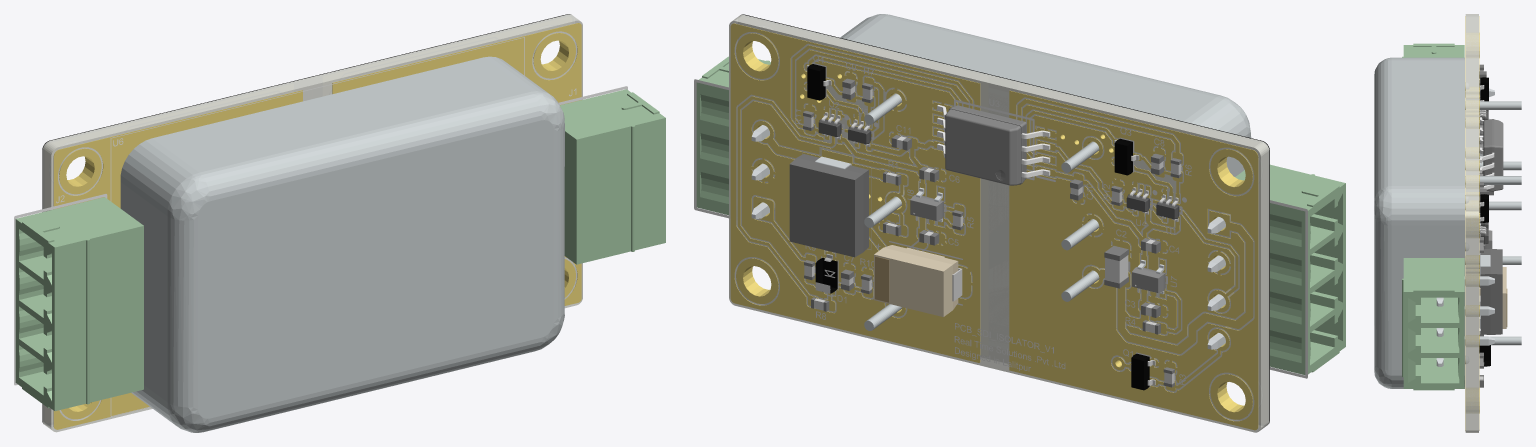
File: SDI_ISOLATOR_V1.glb
3 renders of one model, left to right at view 1: azimuth 30°, elevation 25°; view 2: azimuth 150°, elevation 25°; view 3: azimuth 270°, elevation 25°, orthographic. The views are drawn at different scales.
Parts seen in each view (by area): view 1: ComponentBody.2, ComponentBody.4, ComponentBody.1, Core, GND_L, GND_R, Via, Top, Solder_Bottom; view 2: GND_L, Core, GND_R, ComponentBody.2, ComponentBody.4, ComponentBody.31, ComponentBody.75, Via, ComponentBody.1, ComponentBody.58, Bottom, +12V_L (+21 smaller); view 3: ComponentBody.2, ComponentBody.1, Core, ComponentBody.31, ComponentBody.75, ComponentBody.4, ComponentBody, GND_R, Via, Pad.1, ComponentBody.76, ComponentBody.58 (+7 smaller).
Boxes of the visible parts, <box> form: ComponentBody.2: <box>120,56,564,432</box>; ComponentBody.4: <box>15,197,143,411</box>; ComponentBody.1: <box>560,89,665,264</box>; Core: <box>42,14,582,432</box>; GND_L: <box>53,90,302,429</box>; GND_R: <box>332,23,581,305</box>; Via: <box>59,33,575,419</box>; Top: <box>14,37,627,416</box>; Solder_Bottom: <box>42,14,570,423</box>; GND_L: <box>1009,90,1258,430</box>; Core: <box>729,14,1269,432</box>; GND_R: <box>730,23,980,362</box>; ComponentBody.2: <box>840,14,1251,357</box>; ComponentBody.4: <box>1235,164,1345,374</box>; ComponentBody.31: <box>789,154,868,257</box>; ComponentBody.75: <box>945,105,1026,185</box>; Via: <box>736,33,1253,419</box>; ComponentBody.1: <box>696,56,770,215</box>; ComponentBody.58: <box>874,245,958,316</box>; Bottom: <box>795,55,1191,387</box>; +12V_L: <box>1098,221,1253,353</box>; ComponentBody.2: <box>1374,57,1521,388</box>; ComponentBody.1: <box>1402,258,1464,390</box>; Core: <box>1465,14,1478,432</box>; ComponentBody.31: <box>1480,248,1502,334</box>; ComponentBody.75: <box>1483,119,1503,191</box>; ComponentBody.4: <box>1402,43,1464,57</box>; ComponentBody: <box>1436,276,1494,366</box>; GND_R: <box>1465,120,1479,430</box>; Via: <box>1466,33,1479,413</box>; Pad.1: <box>1466,100,1479,264</box>; ComponentBody.76: <box>1479,117,1494,189</box>; ComponentBody.58: <box>1479,267,1506,328</box>.
Size of the model in its own units: 6.33 by 2.8 by 1.69.
